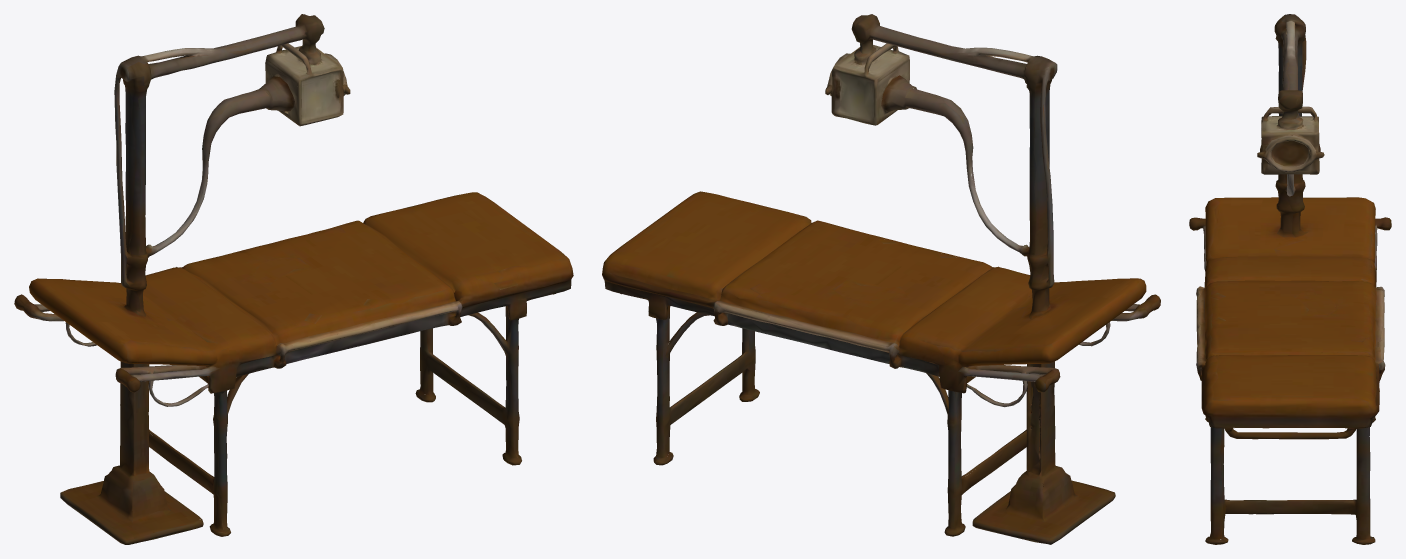
The model's file is rayos_x.glb.
3 views of the same model, side by side, from view 1: azimuth 30°, elevation 25°; view 2: azimuth 150°, elevation 25°; view 3: azimuth 270°, elevation 25° (orthographic). The views are drawn at different scales.
Parts seen in each view (by area): view 1: geometry_0; view 2: geometry_0; view 3: geometry_0.
Boxes of the visible parts, x1,y1,x2,y2 form: geometry_0: (14,14,573,544); geometry_0: (602,14,1160,544); geometry_0: (1189,14,1391,544).
Bounding box in the file's own units: 2 × 1.9 × 0.9.
1 material, 1 textured.
